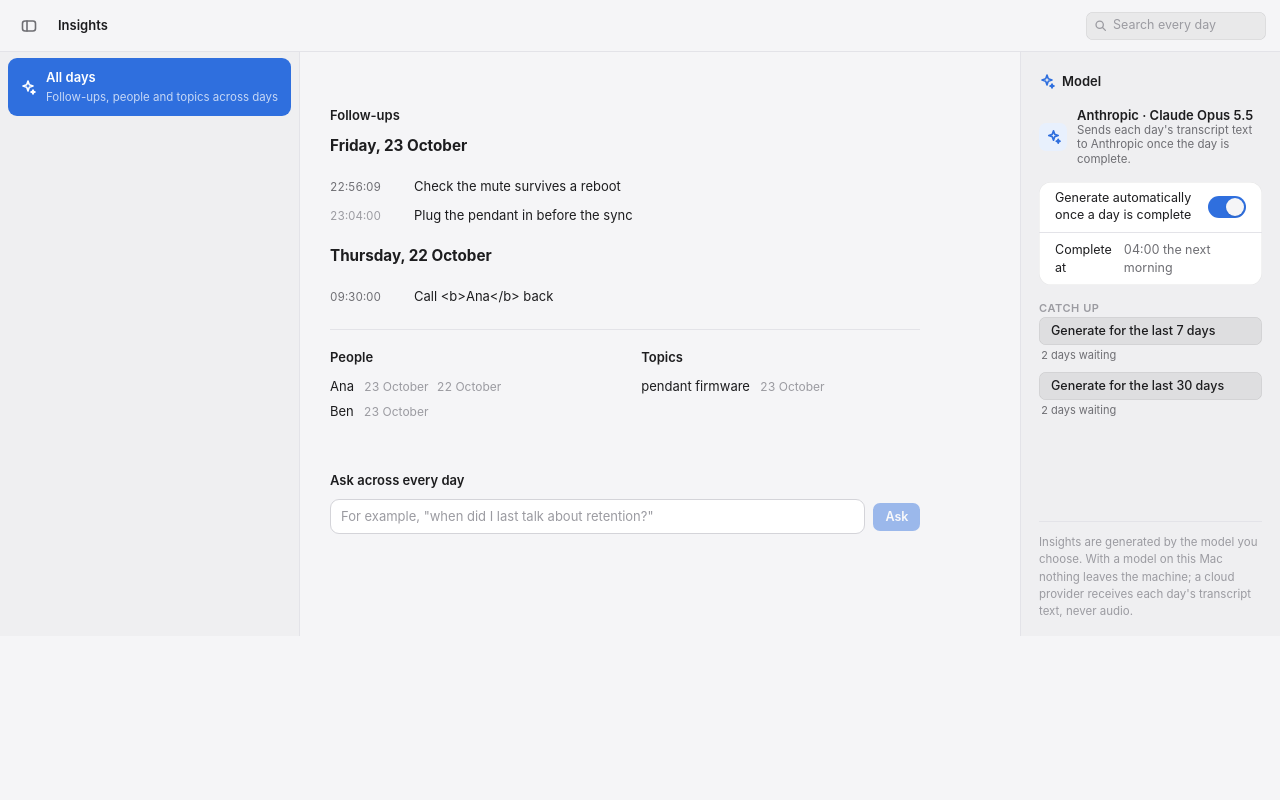
Test: a range job lost to an app restart says so
The image size is (1280, 800).
Click the button "Generate for the last 7 days": x=1150, y=331 [1039,317,1262,345]
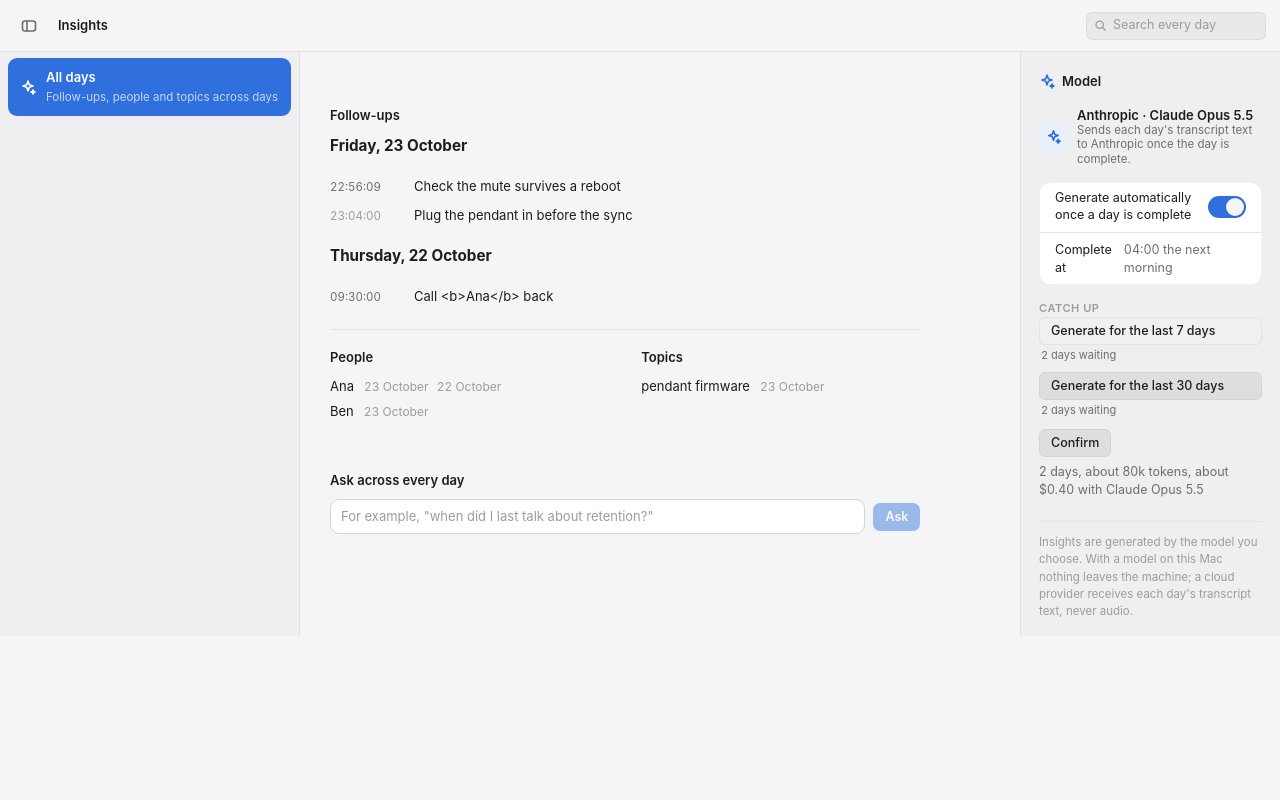
Click the button "Confirm": x=1075, y=443 [1039,429,1111,457]
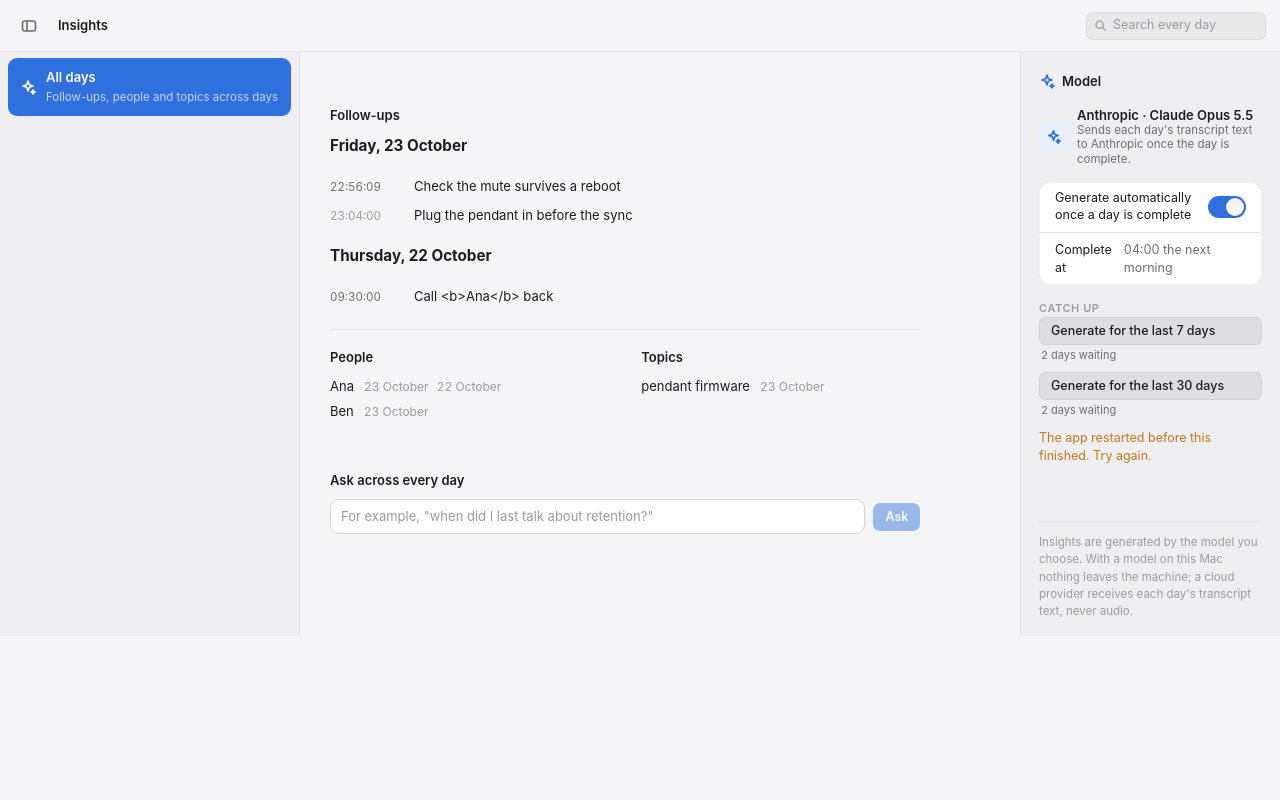
Expected: the message reads "The app restarted before this finished. Try again.", [1039,430,1211,463]
